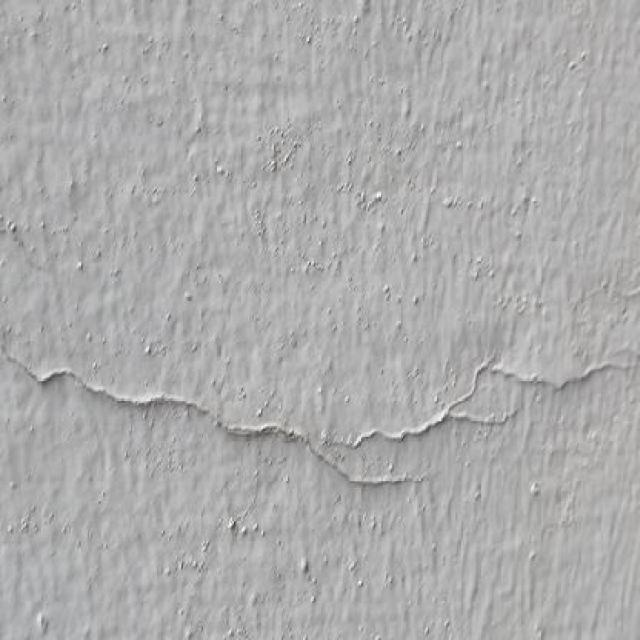GRIETA: (0, 346, 424, 486), (334, 362, 488, 452), (514, 362, 630, 390)
